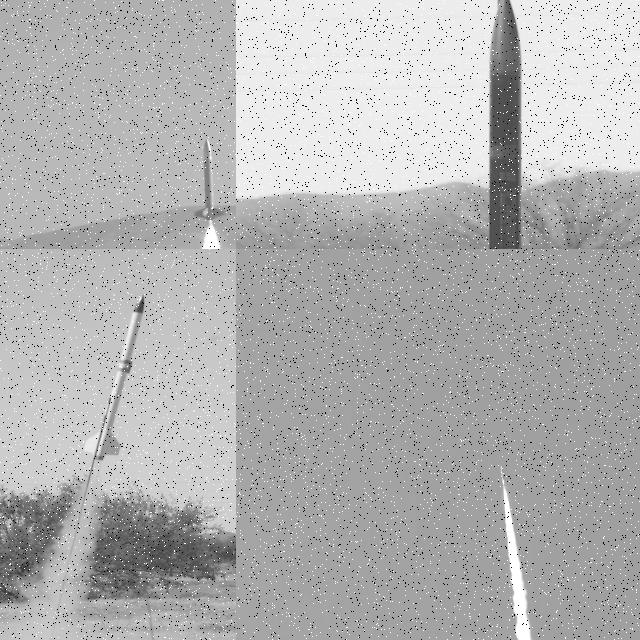Rocket: (452, 0, 556, 249), (82, 294, 146, 461), (192, 138, 228, 221), (500, 463, 507, 488)
